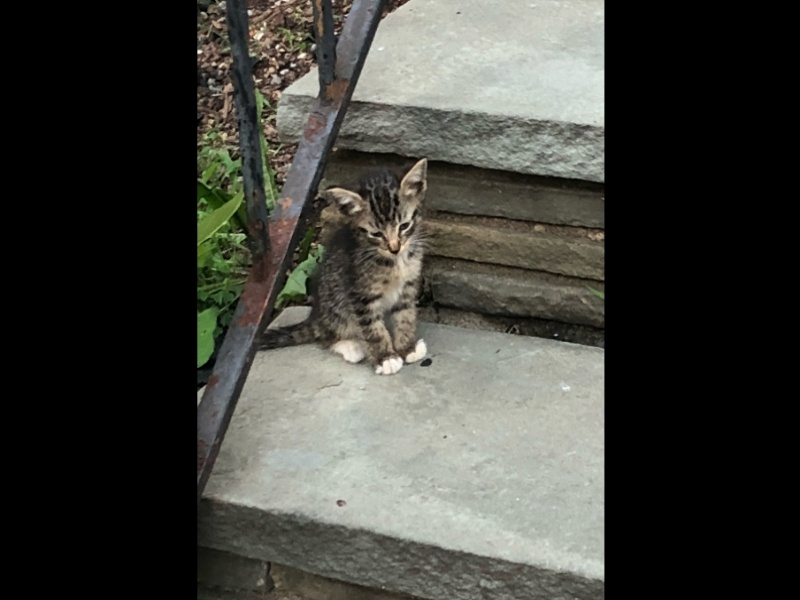cat: (248, 158, 434, 380)
